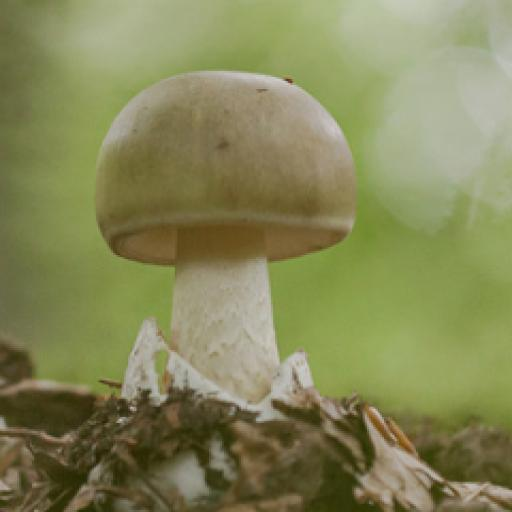mushroom: (88, 67, 369, 510)
